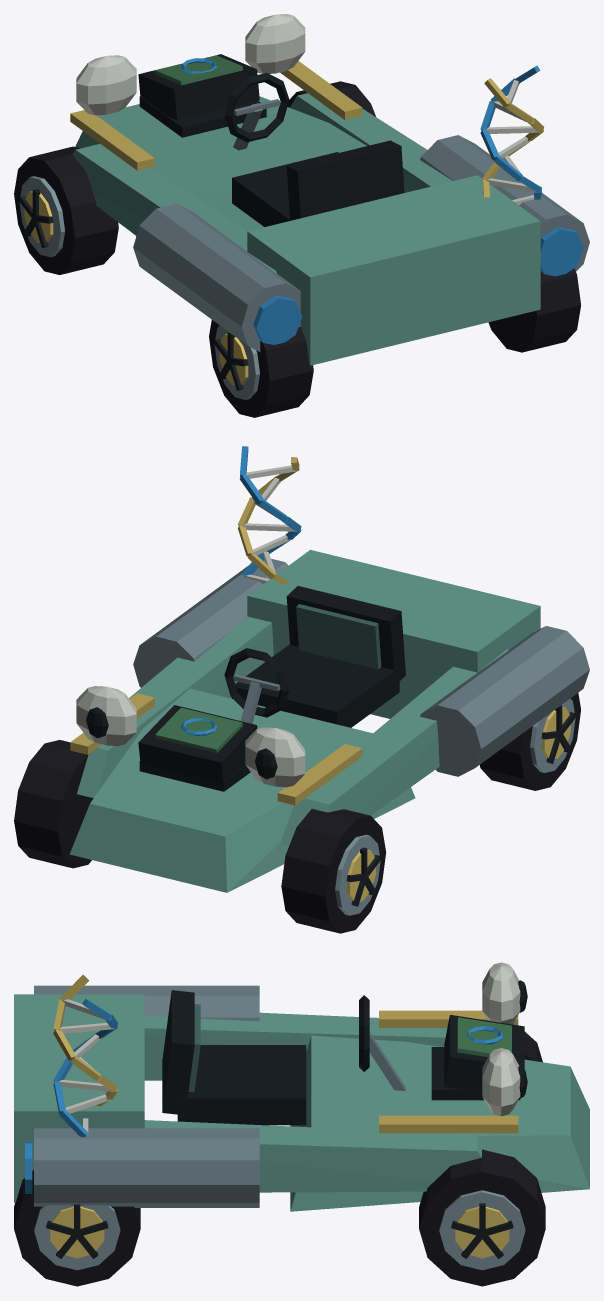
Rendered from kart.glb.
3 renders of one model, top to bottom at view 1: azimuth 30°, elevation 25°; view 2: azimuth 150°, elevation 25°; view 3: azimuth 270°, elevation 25°, orthographic. The views are drawn at different scales.
Visible parts, largest first — view 1: identity-lab-pod-lab-pod-segmented-shell, identity-lab-pod-driver-cockpit, wheel-front-left, wheel-rear-left, identity-lab-pod-motif-eyes, identity-lab-pod-motif-scanner, wheel-rear-right, identity-lab-pod-motif-dna, wheel-front-right; view 2: identity-lab-pod-lab-pod-segmented-shell, identity-lab-pod-driver-cockpit, wheel-front-left, wheel-front-right, identity-lab-pod-motif-scanner, identity-lab-pod-motif-eyes, wheel-rear-left, identity-lab-pod-motif-dna; view 3: identity-lab-pod-lab-pod-segmented-shell, identity-lab-pod-driver-cockpit, wheel-front-right, wheel-rear-right, identity-lab-pod-motif-eyes, identity-lab-pod-motif-dna, identity-lab-pod-motif-scanner.
Boxes of the visible parts, x1,y1,x2,y2 form: identity-lab-pod-lab-pod-segmented-shell: [70, 61, 589, 365]; identity-lab-pod-driver-cockpit: [224, 73, 404, 226]; wheel-front-left: [14, 146, 118, 274]; wheel-rear-left: [209, 320, 313, 417]; identity-lab-pod-motif-eyes: [76, 14, 305, 115]; identity-lab-pod-motif-scanner: [138, 54, 259, 120]; wheel-rear-right: [488, 268, 580, 352]; identity-lab-pod-motif-dna: [480, 65, 544, 205]; wheel-front-right: [287, 81, 375, 116]; identity-lab-pod-lab-pod-segmented-shell: [69, 550, 589, 892]; identity-lab-pod-driver-cockpit: [224, 586, 405, 727]; wheel-front-left: [281, 809, 386, 933]; wheel-front-right: [14, 740, 93, 868]; identity-lab-pod-motif-scanner: [138, 705, 257, 783]; identity-lab-pod-motif-eyes: [76, 686, 305, 787]; wheel-rear-left: [480, 693, 580, 790]; identity-lab-pod-motif-dna: [238, 446, 301, 584]; identity-lab-pod-lab-pod-segmented-shell: [14, 985, 589, 1211]; identity-lab-pod-driver-cockpit: [162, 990, 405, 1125]; wheel-front-right: [419, 1149, 545, 1286]; wheel-rear-right: [14, 1170, 140, 1286]; identity-lab-pod-motif-eyes: [482, 962, 527, 1116]; identity-lab-pod-motif-dna: [53, 975, 117, 1137]; identity-lab-pod-motif-scanner: [444, 1015, 524, 1089].
Size of the model in its own units: 1.98 by 1.47 by 2.73.
